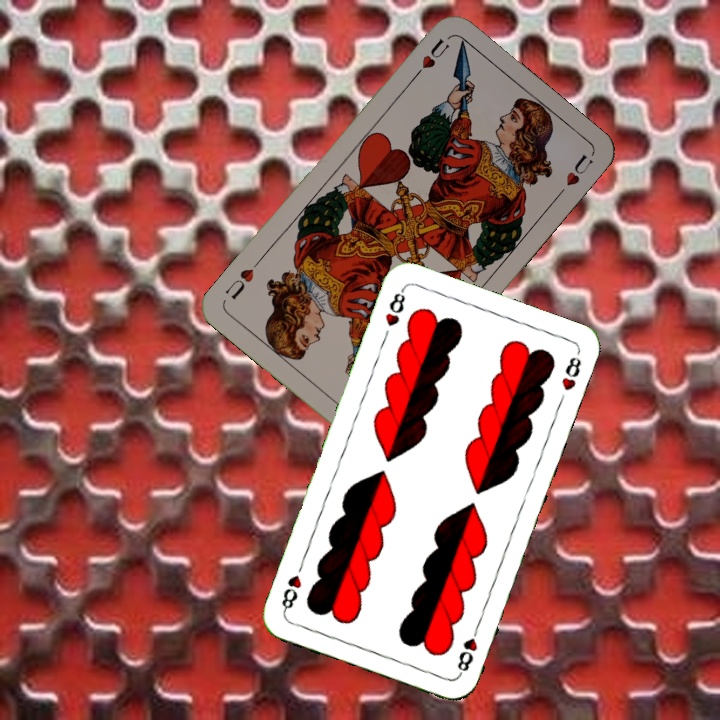H8: (453, 621, 482, 678), (381, 284, 408, 329)
HU: (408, 34, 452, 83)
